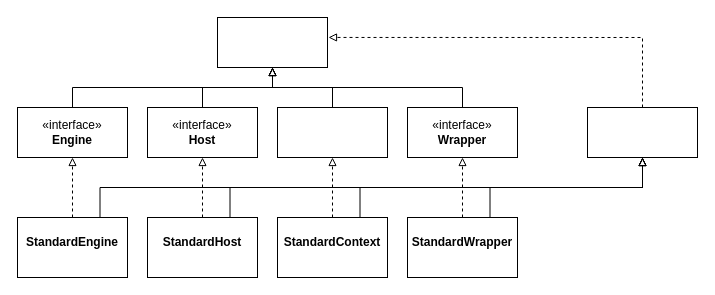
Some shapes in this 715 by 295 pixel diagram are drawn without their labels. Each missing label, with the box of its shape:
ContainerBase: (586, 106, 698, 158)
«interface» Container: (216, 16, 328, 68)
«interface» Context: (276, 106, 388, 158)
